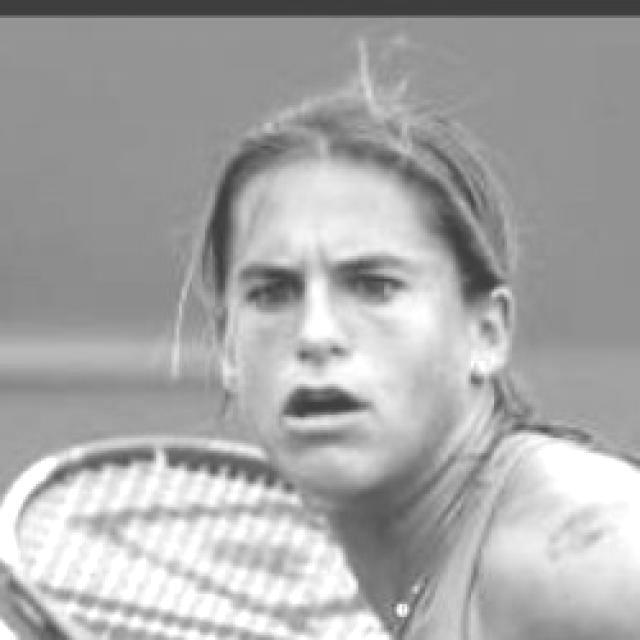real: (222, 152, 485, 506), (237, 262, 413, 327)
